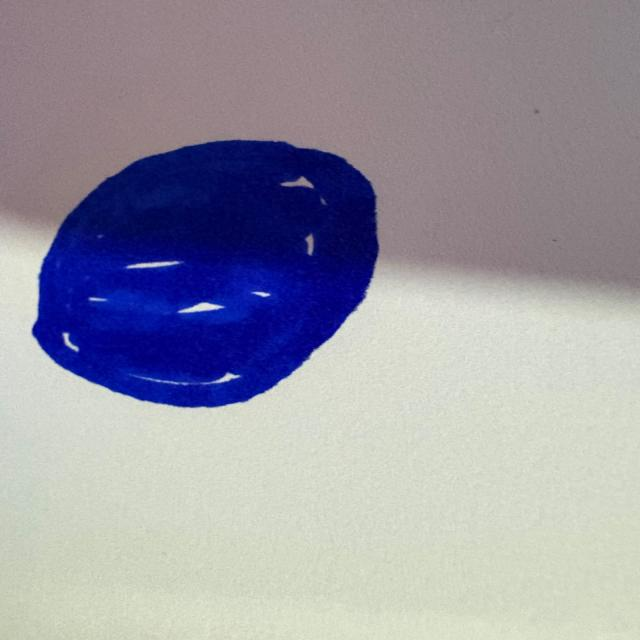Circle: (29, 136, 388, 418)
